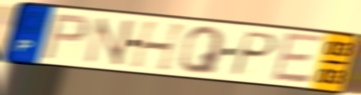E: (270, 30, 328, 85)
H: (128, 20, 190, 74)
N: (81, 16, 137, 68)
P: (228, 30, 280, 78), (40, 13, 91, 61)
Q: (177, 25, 228, 76)
